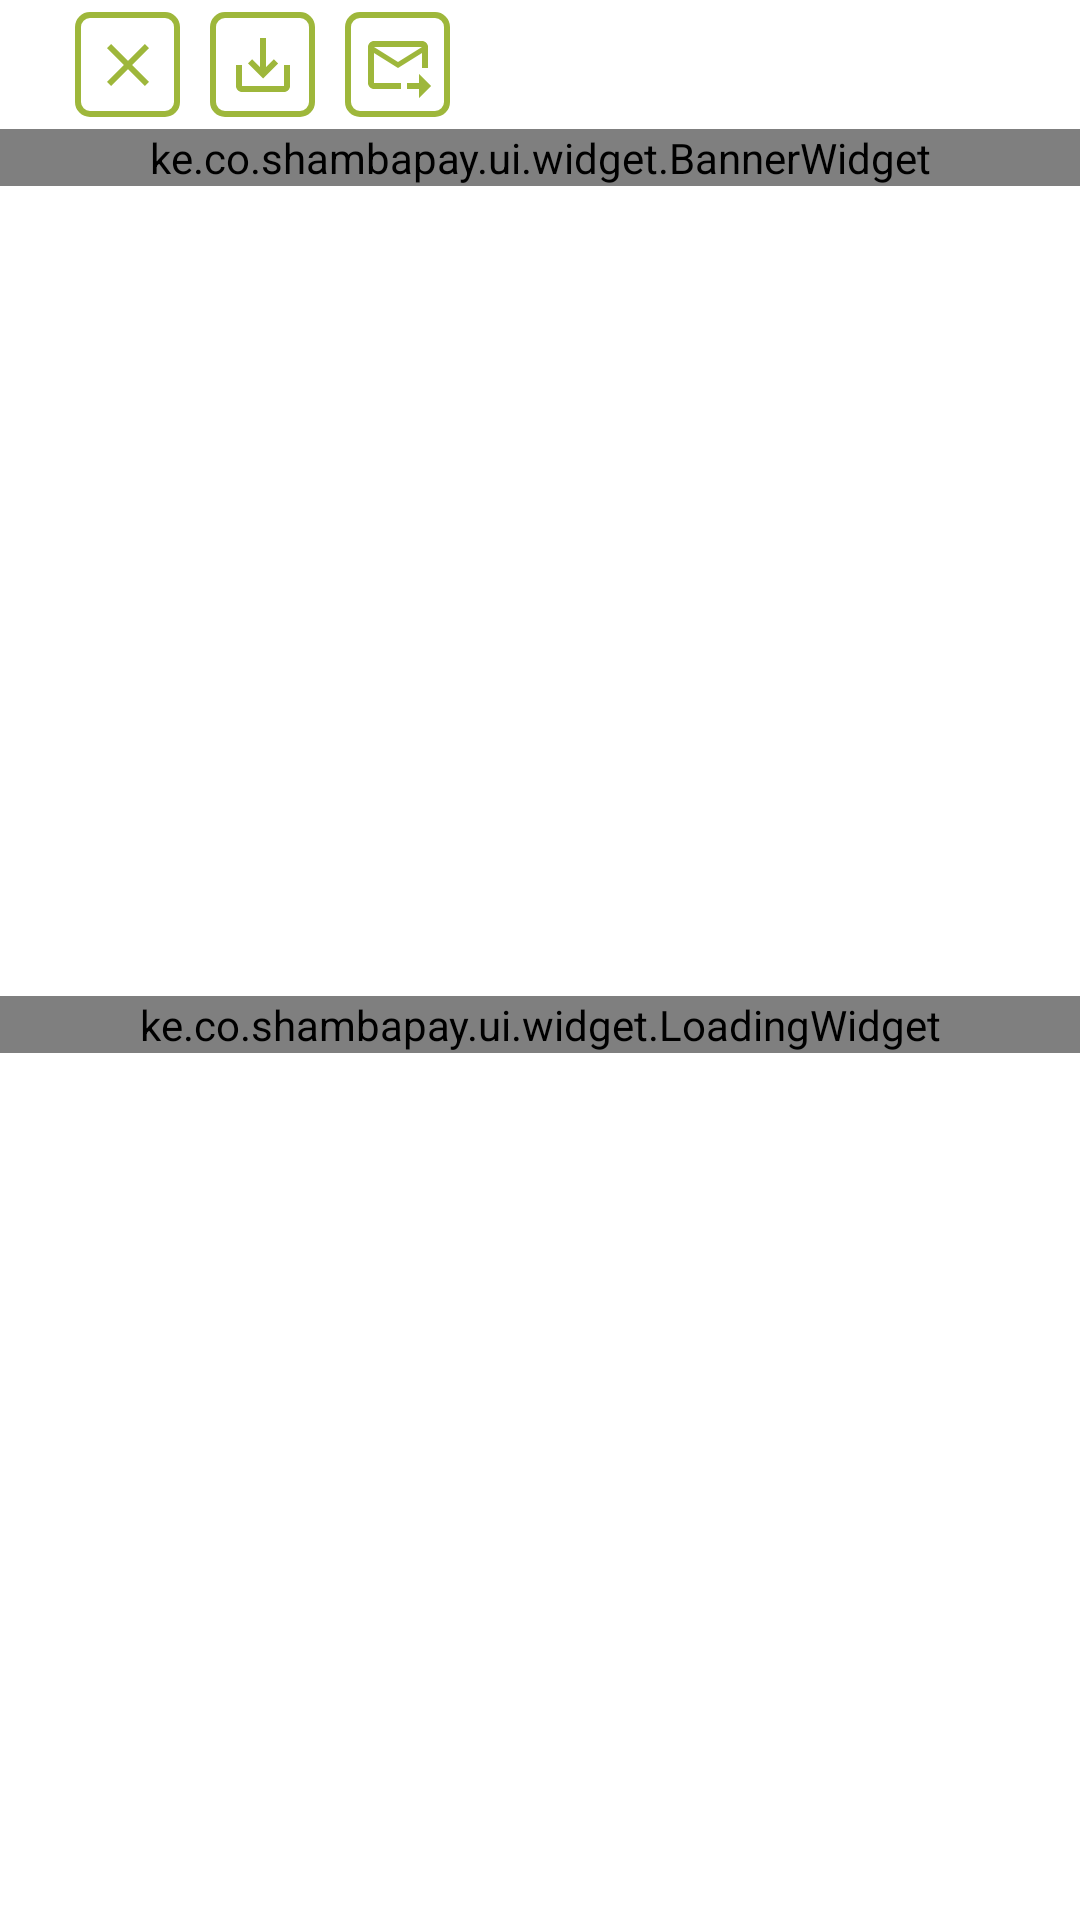

Icons on this 1080×1920 Android screen, each with the point to tap as (x=x, y=y):
Save: (x=262, y=64)
Send Bulk SMS: (x=397, y=64)
